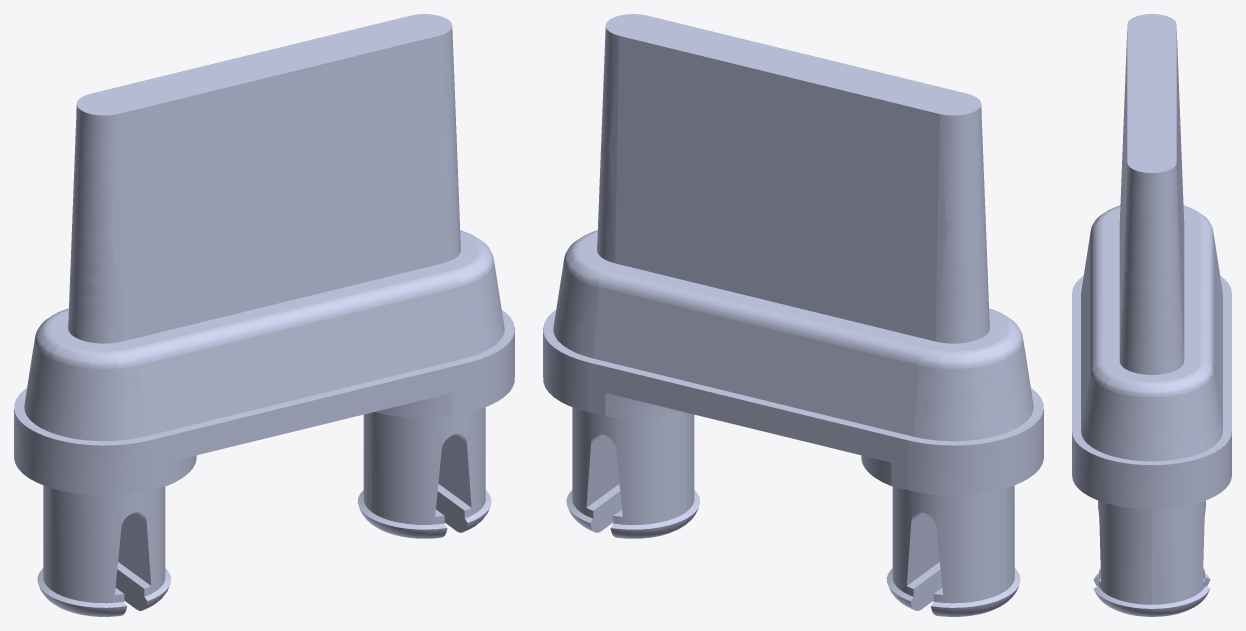
Rendered from Short Intake Flap (228-2500-240).glb.
3 views of the same model, side by side, from view 1: azimuth 30°, elevation 25°; view 2: azimuth 150°, elevation 25°; view 3: azimuth 270°, elevation 25° (orthographic). The views are drawn at different scales.
Visible parts, largest first — view 1: Short Intake Flap (228-2500-240); view 2: Short Intake Flap (228-2500-240); view 3: Short Intake Flap (228-2500-240).
Boxes of the visible parts, <box> form: Short Intake Flap (228-2500-240): <box>14,14,514,616</box>; Short Intake Flap (228-2500-240): <box>543,14,1043,616</box>; Short Intake Flap (228-2500-240): <box>1072,14,1231,616</box>.
Size of the model in its own units: 0.7435 by 0.7338 by 0.2441.
